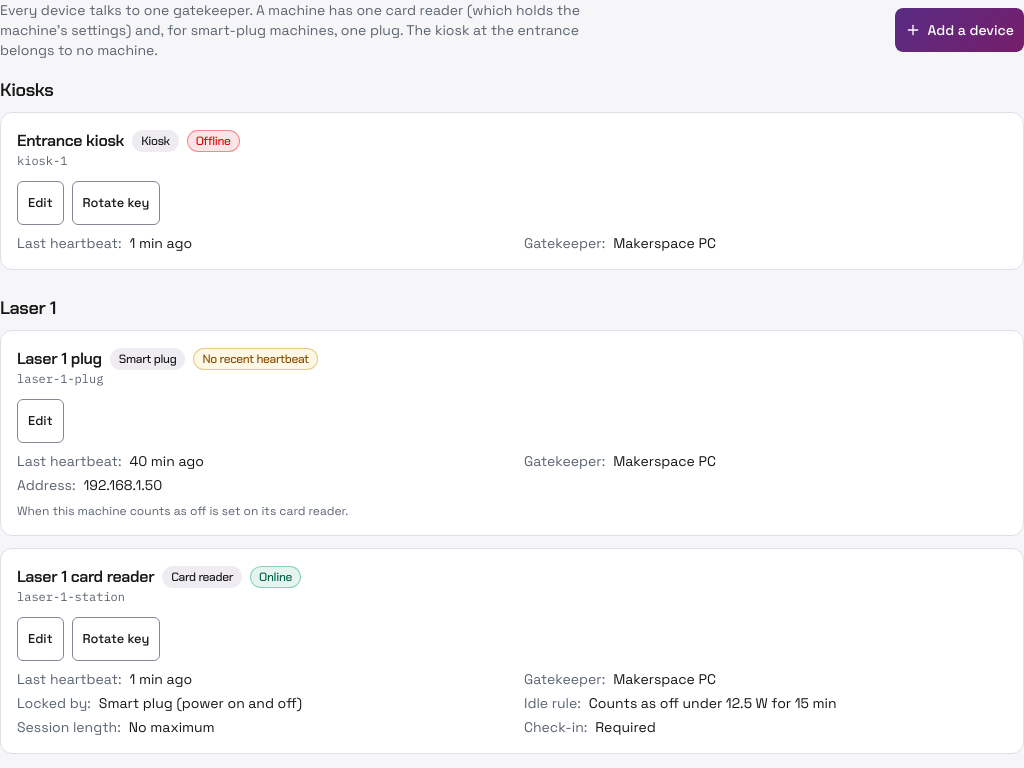
Test: Devices adding › keeps the session limit off by default and says it never cuts a running machine
Expected: the heading "Entrance kiosk Kiosk Offline" is shown, x1=17 y1=130 x2=240 y2=152
Click the button "Add a device".
click(960, 30)  # box x1=895 y1=8 x2=1023 y2=52
(page scrolled)
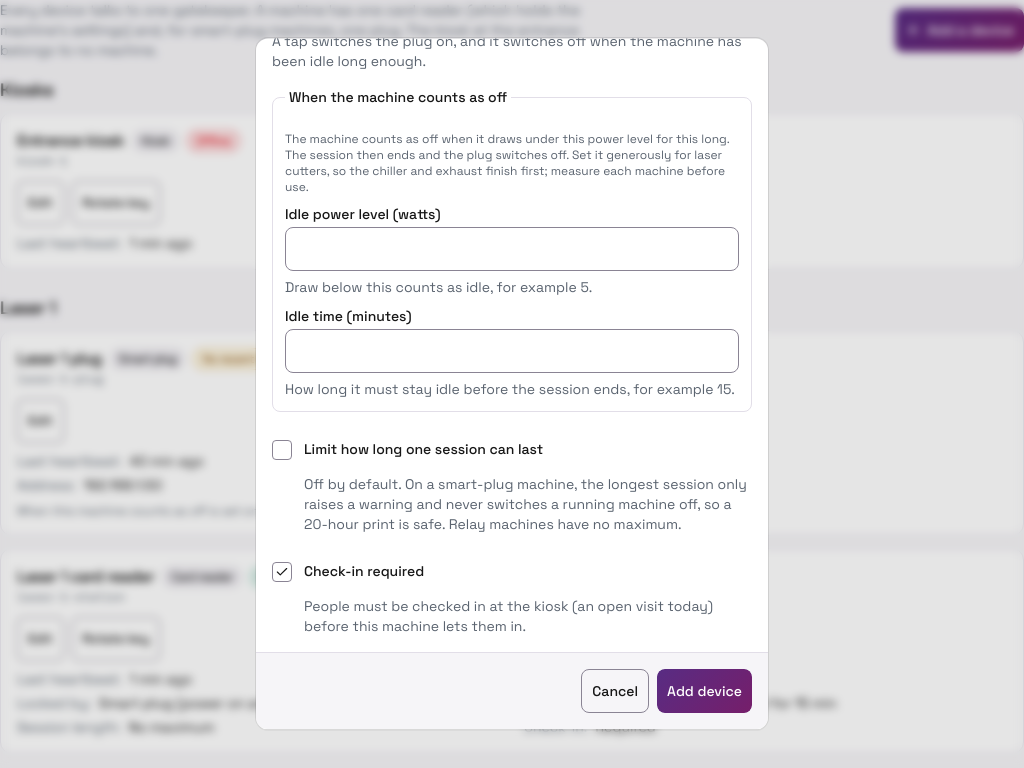
Result: the checkbox named "limit how long one session can last" next to "Limit how long one session can last" is not checked
Click the checkbox named "limit how long one session can last" next to "Limit how long one session can last".
click(282, 450)  # box x1=272 y1=440 x2=292 y2=460
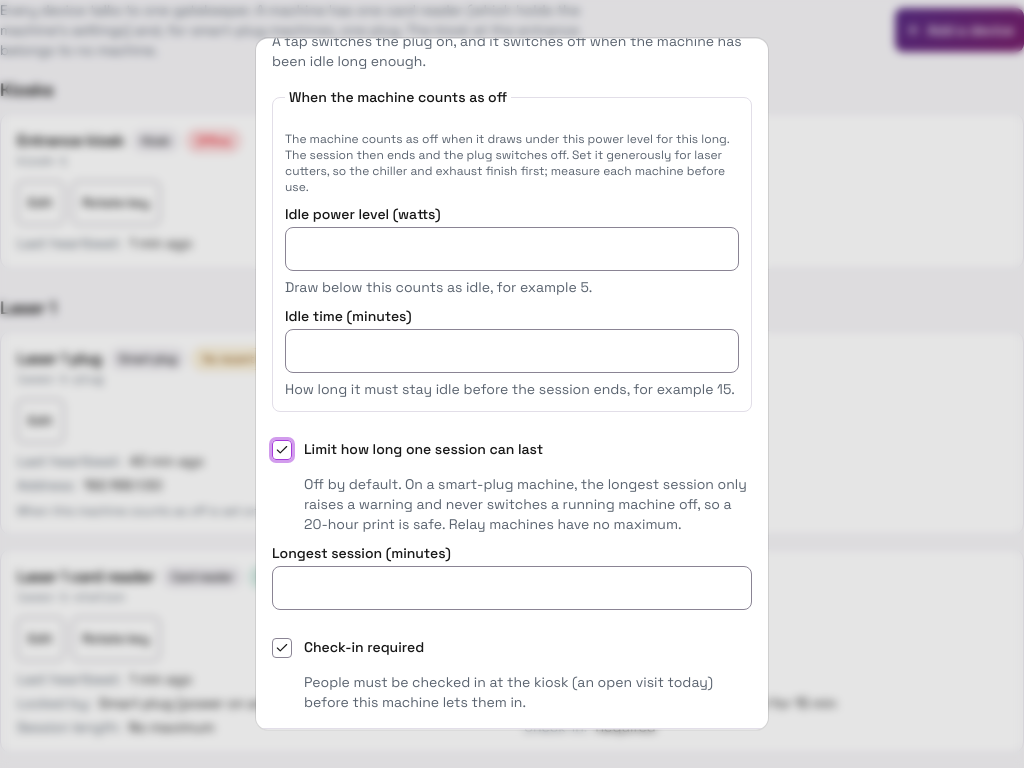
Result: the field labelled "Longest session (minutes)" is shown at x1=272 y1=566 x2=752 y2=610
